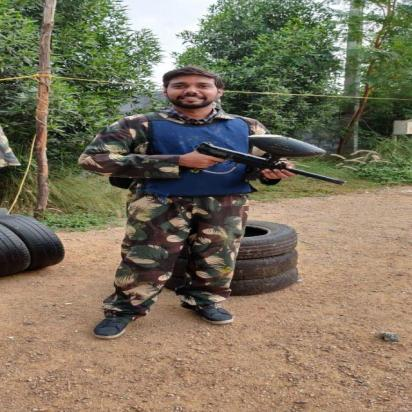Gun: (185, 133, 350, 186)
